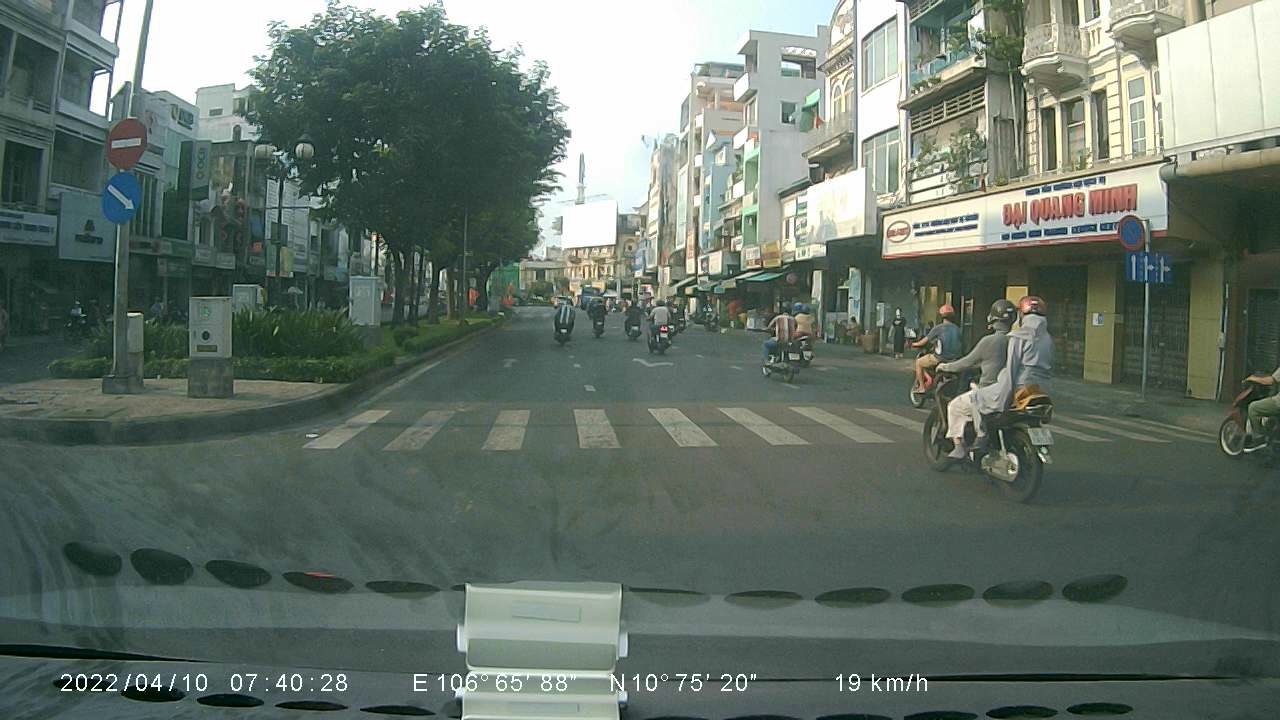Bien khac: (1125, 249, 1175, 285)
Cam di nguoc chieu: (103, 113, 146, 169)
Cam do xe: (1112, 211, 1148, 254)
Huong di phai re phai: (98, 173, 145, 228)
